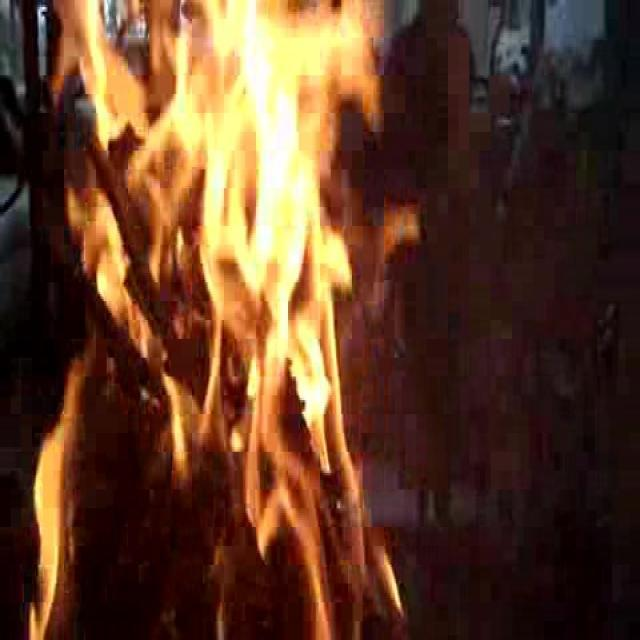Fire: (34, 21, 363, 590)
